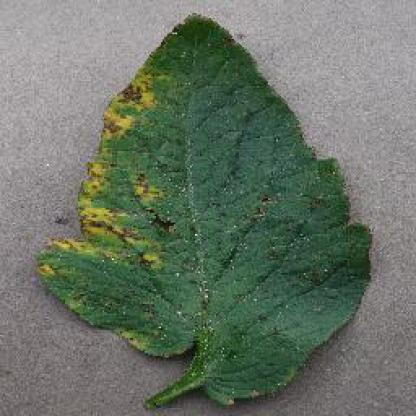bad leaf: (48, 69, 181, 273)
